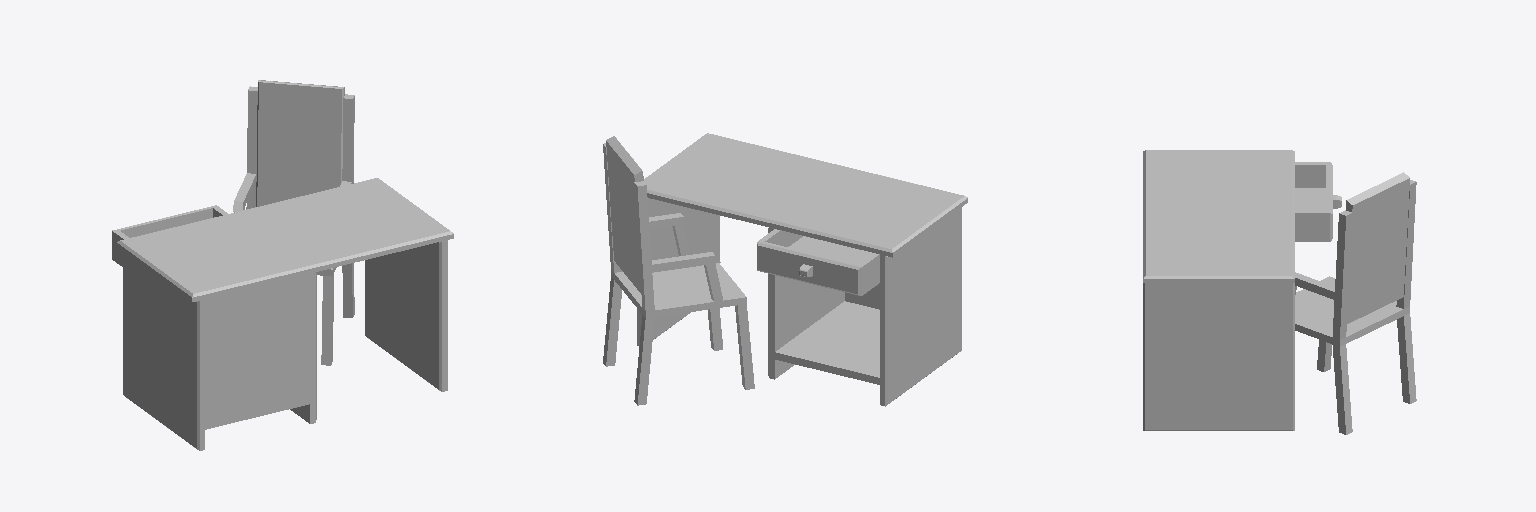
The model's file is desk.obj.
3 renders of one model, left to right at view 1: azimuth 30°, elevation 25°; view 2: azimuth 150°, elevation 25°; view 3: azimuth 270°, elevation 25°, orthographic.
Parts seen in each view (by area): view 1: Cube.004, Cube.025, Cube.005, Cube.002, Cube, Cube.030, Cube.001, Cube.003; view 2: Cube.004, Cube.025, Cube.002, Cube.003, Cube.030, Cube.001, Cube; view 3: Cube, Cube.004, Cube.025, Cube.030.
Boxes of the visible parts, x1=… form: Cube.004: x1=117, y1=178, x2=453, y2=301; Cube.025: x1=233, y1=80, x2=354, y2=365; Cube.005: x1=205, y1=274, x2=309, y2=421; Cube.002: x1=123, y1=252, x2=204, y2=450; Cube: x1=365, y1=240, x2=447, y2=391; Cube.030: x1=112, y1=205, x2=227, y2=266; Cube.001: x1=290, y1=272, x2=316, y2=423; Cube.003: x1=205, y1=397, x2=309, y2=429; Cube.004: x1=644, y1=133, x2=967, y2=257; Cube.025: x1=603, y1=136, x2=754, y2=405; Cube.002: x1=880, y1=207, x2=961, y2=406; Cube.003: x1=775, y1=301, x2=879, y2=384; Cube.030: x1=757, y1=229, x2=879, y2=295; Cube.001: x1=768, y1=228, x2=844, y2=379; Cube: x1=637, y1=198, x2=719, y2=345; Cube: x1=1143, y1=283, x2=1294, y2=430; Cube.004: x1=1143, y1=150, x2=1294, y2=282; Cube.025: x1=1295, y1=172, x2=1416, y2=434; Cube.030: x1=1295, y1=162, x2=1341, y2=241.
Size of the model in its own units: 20.16 by 16.76 by 18.07.